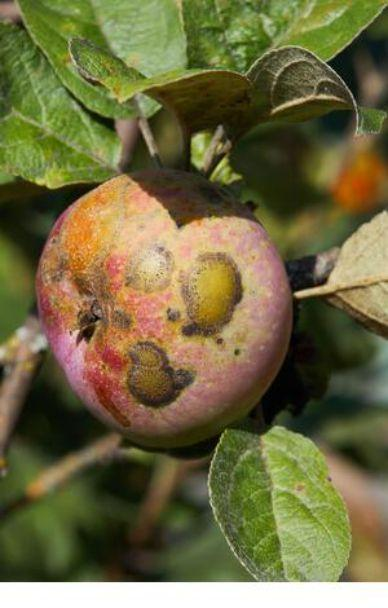SCAB: (33, 133, 334, 471)
